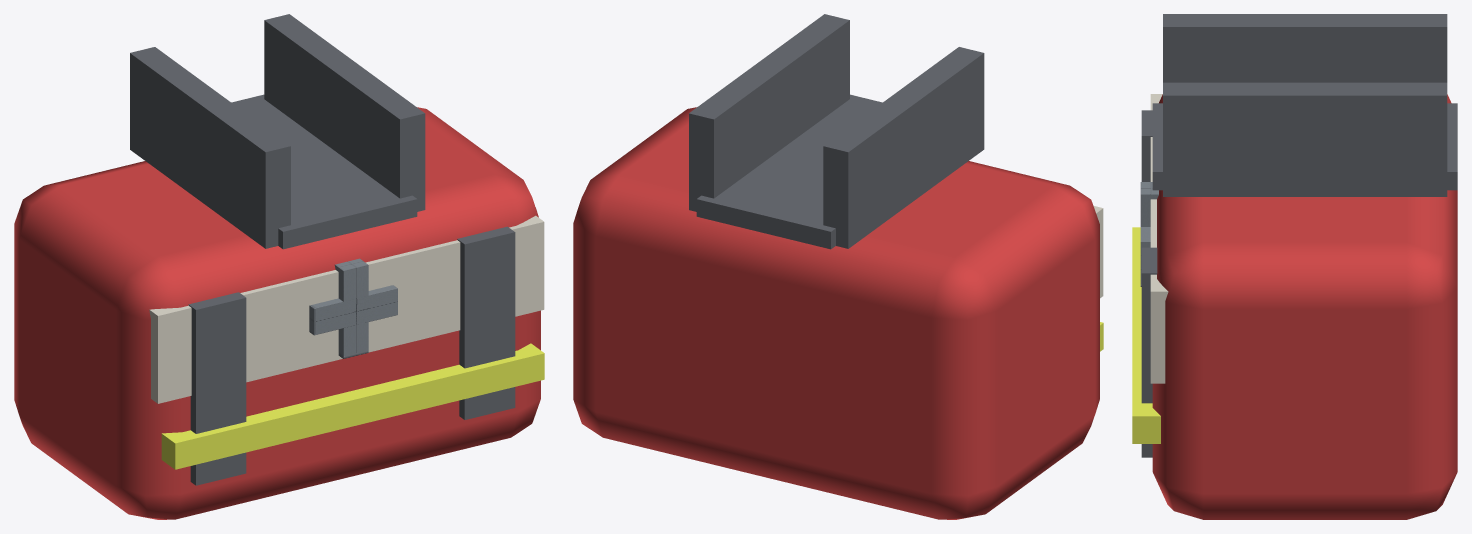
File: fire-and-emergency-services-first-aid-grab-bag-2c26407c__29927.glb
3 views of the same model, side by side, from view 1: azimuth 30°, elevation 25°; view 2: azimuth 150°, elevation 25°; view 3: azimuth 270°, elevation 25° (orthographic). The views are drawn at different scales.
Parts seen in each view (by area): view 1: first-aid-grab-bag; view 2: first-aid-grab-bag; view 3: first-aid-grab-bag.
Boxes of the visible parts, <box> form: first-aid-grab-bag: <box>14,14,544,519</box>; first-aid-grab-bag: <box>573,14,1103,519</box>; first-aid-grab-bag: <box>1132,14,1457,519</box>.
Size of the model in its own units: 0.5 by 0.41 by 0.32.
5 materials, 1 textured.
